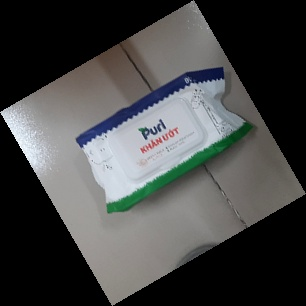Puri Trang: (74, 65, 256, 218)
